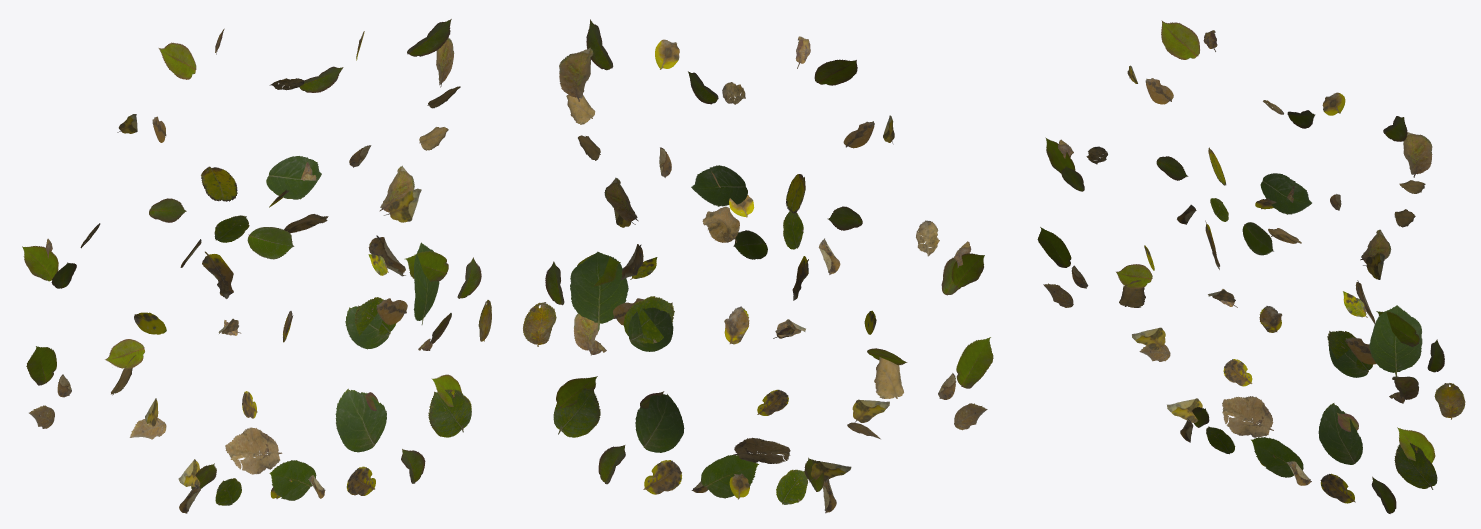
Rendered from Leaf_Pile_02_Var2_LOD2.fbx.
3 views of the same model, side by side, from view 1: azimuth 30°, elevation 25°; view 2: azimuth 150°, elevation 25°; view 3: azimuth 330°, elevation 25° (orthographic). The views are drawn at different scales.
Parts seen in each view (by area): view 1: Var2_LOD2; view 2: Var2_LOD2; view 3: Var2_LOD2.
Part boxes in pixels (left/top/right/bottom): Var2_LOD2: left=22, top=19, right=491, bottom=513; Var2_LOD2: left=523, top=19, right=993, bottom=513; Var2_LOD2: left=1037, top=20, right=1465, bottom=513.
Size of the model in its own units: 77.94 by 78.88 by 6.41.
